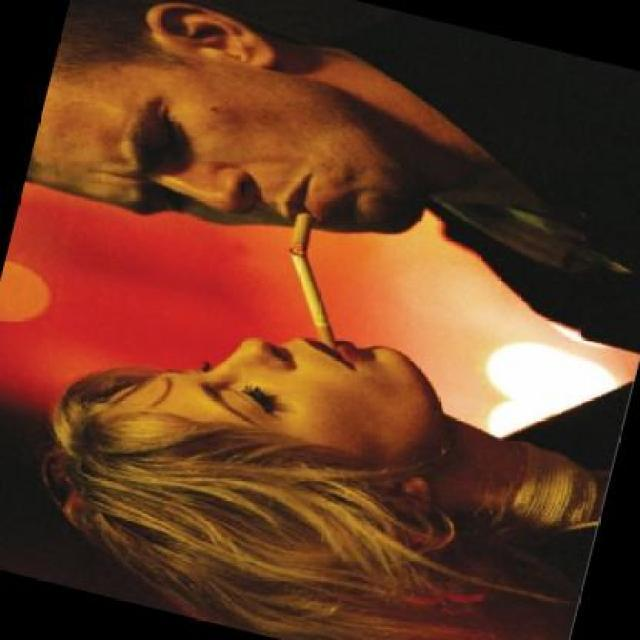cigarette: (264, 246, 362, 351), (286, 204, 319, 253)
